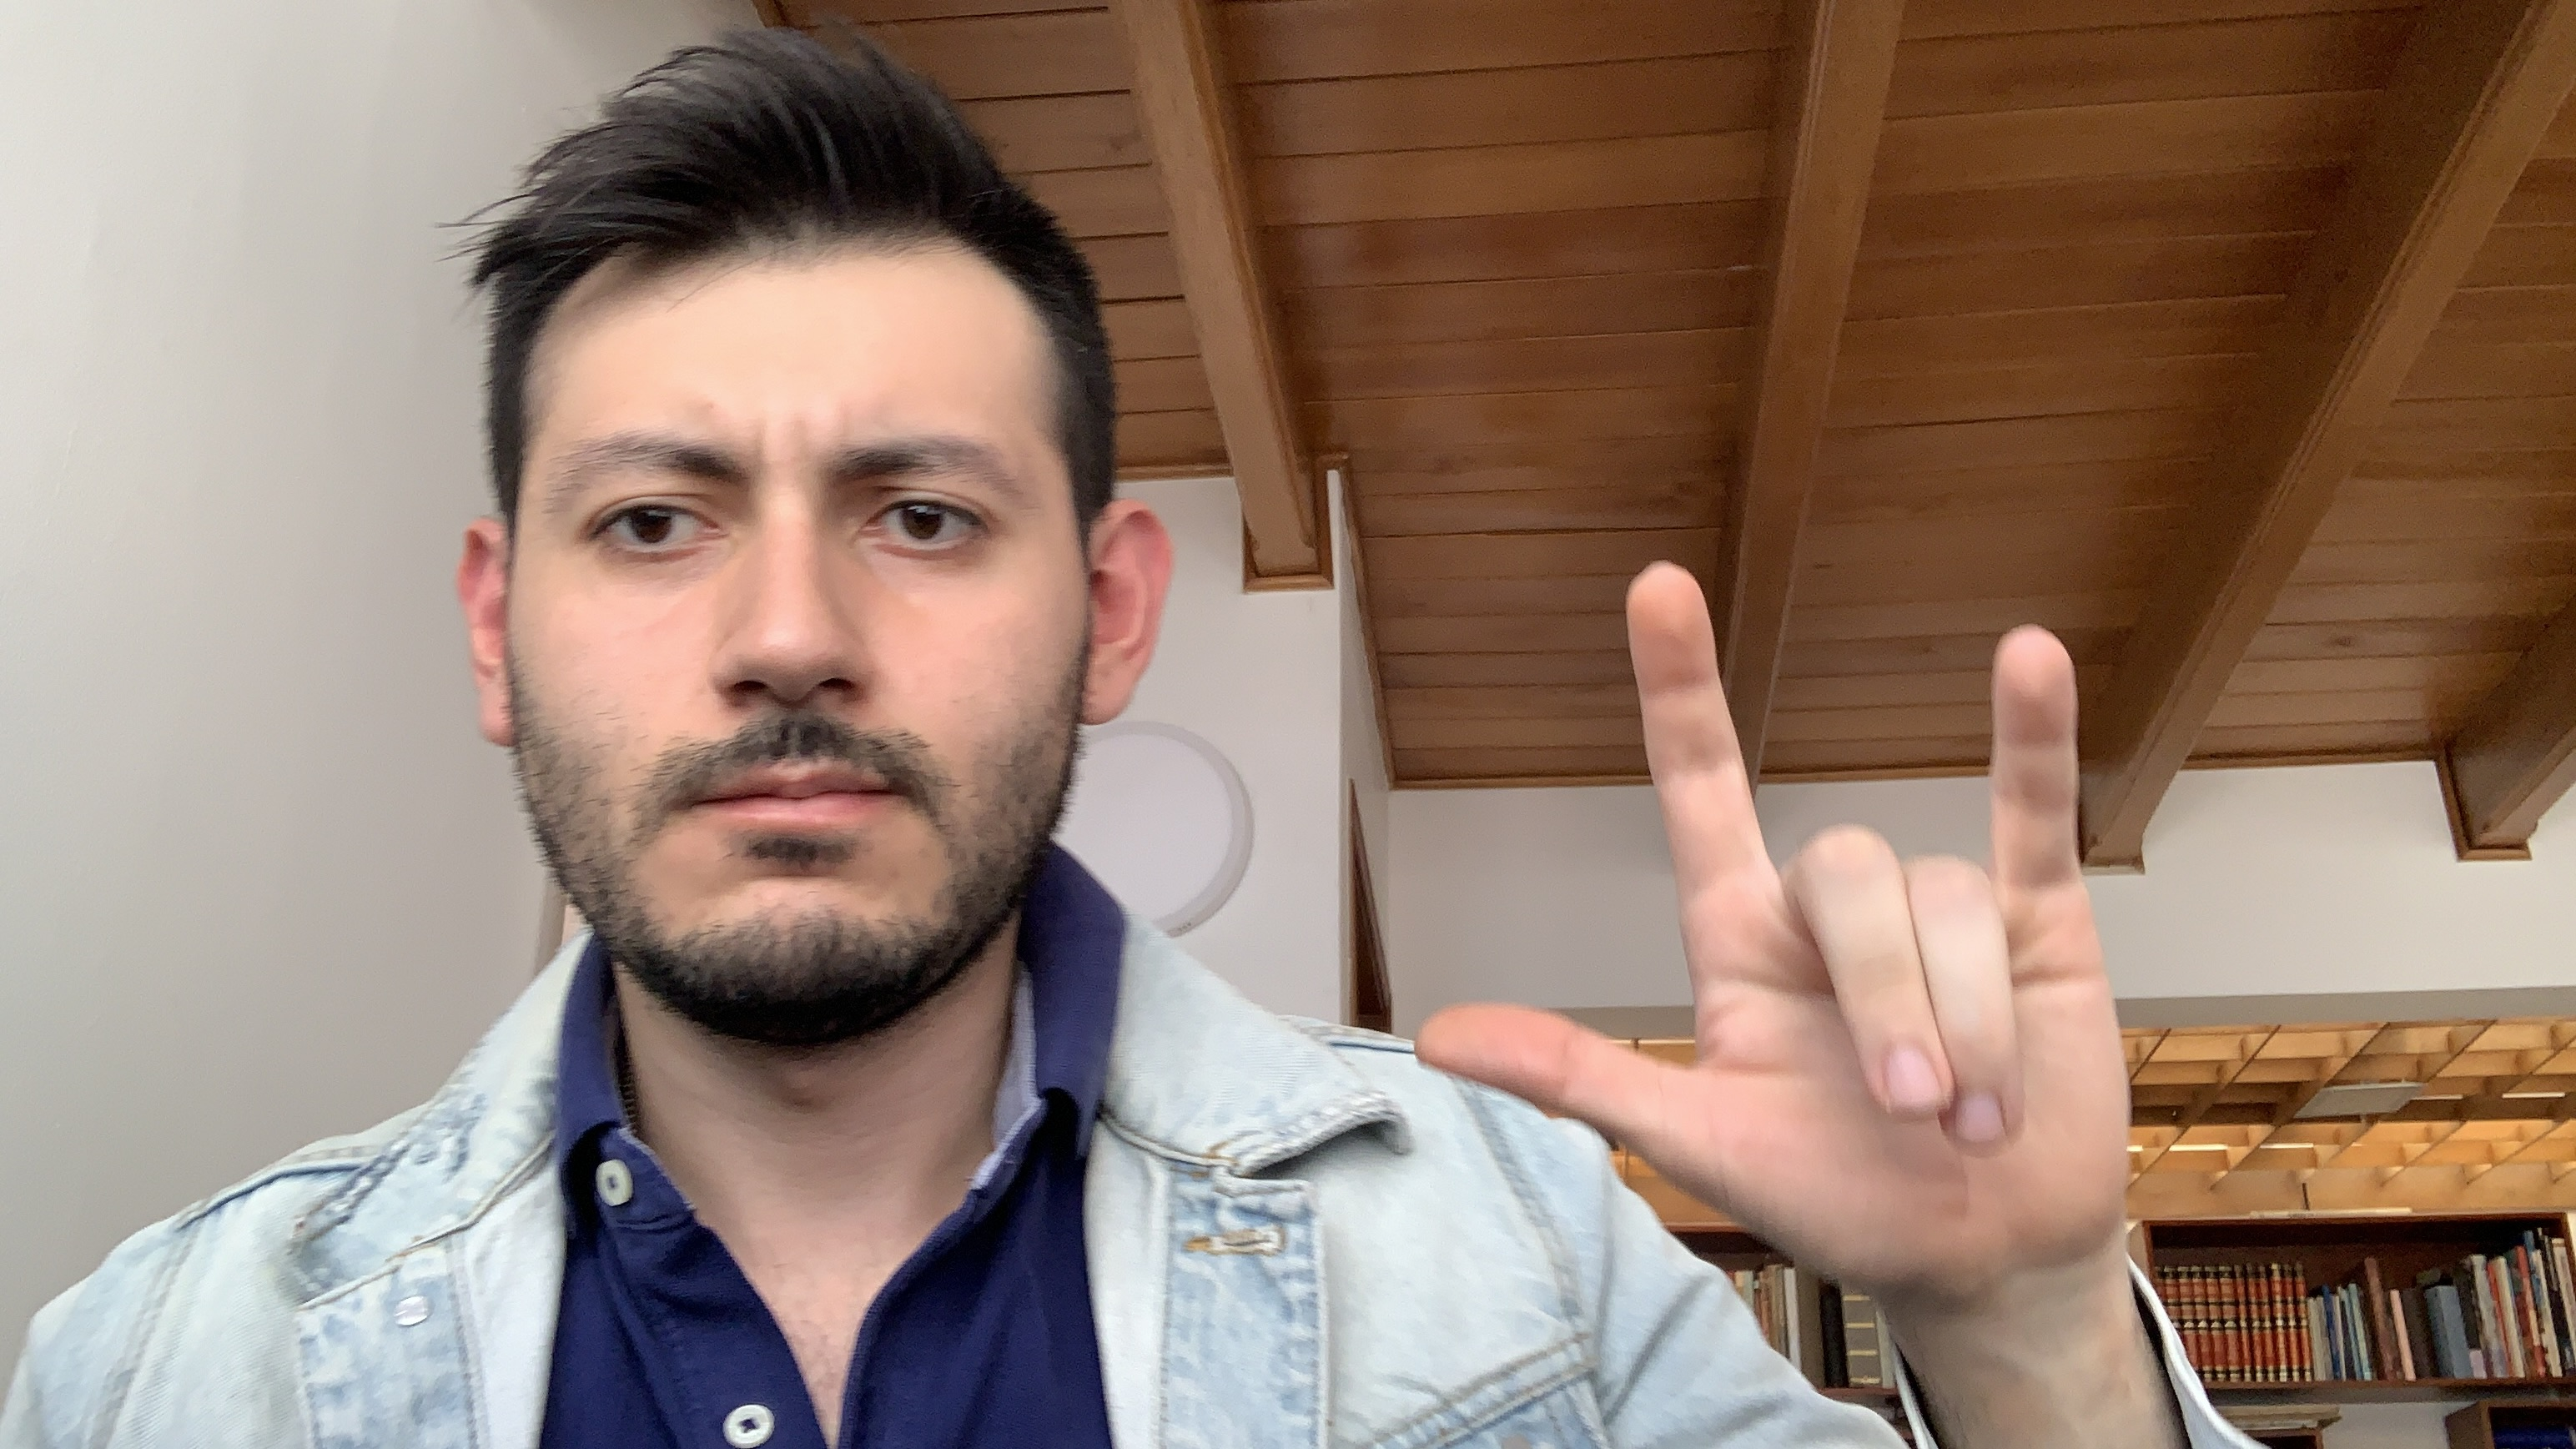I Love You: (1401, 554, 2157, 1327)
